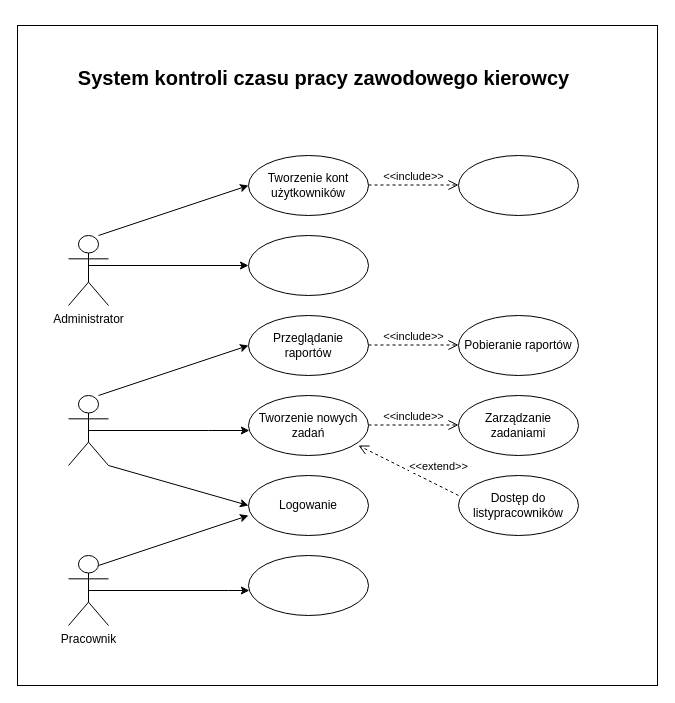
Image size: 675x703. Some labels were removed from this diagram. Here are the shapes that lost their labels. From the top down, the centre of each, then its label:
(518,185): Zarządzanie uprawnieniami
(308,265): Obsługa funkcjonalnośći
(88,430): Dyspozytor
(308,585): Sprawdzanie nadchodzących wyjazdów
